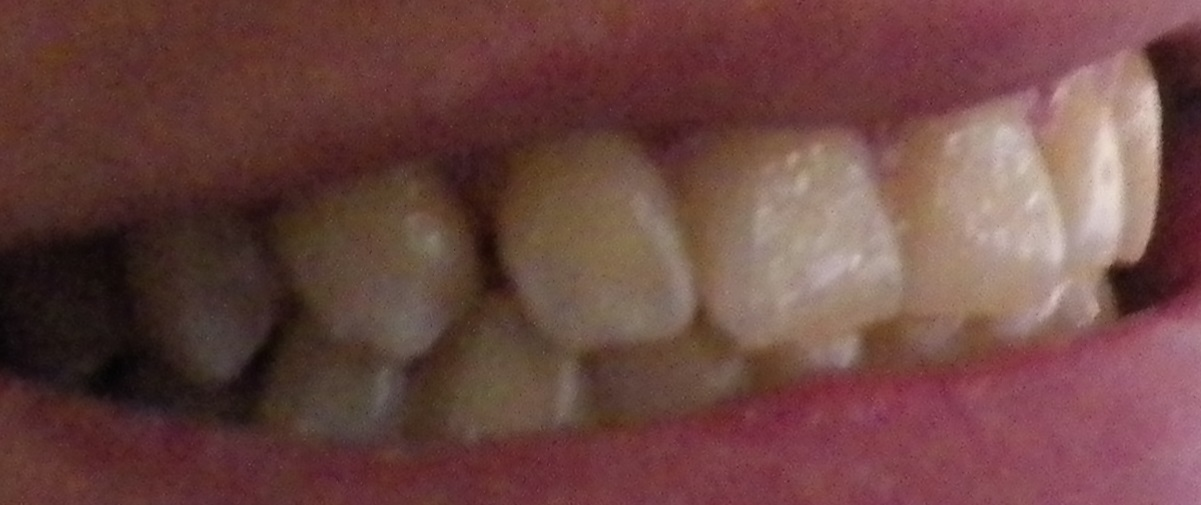boca: (12, 34, 1186, 441)
